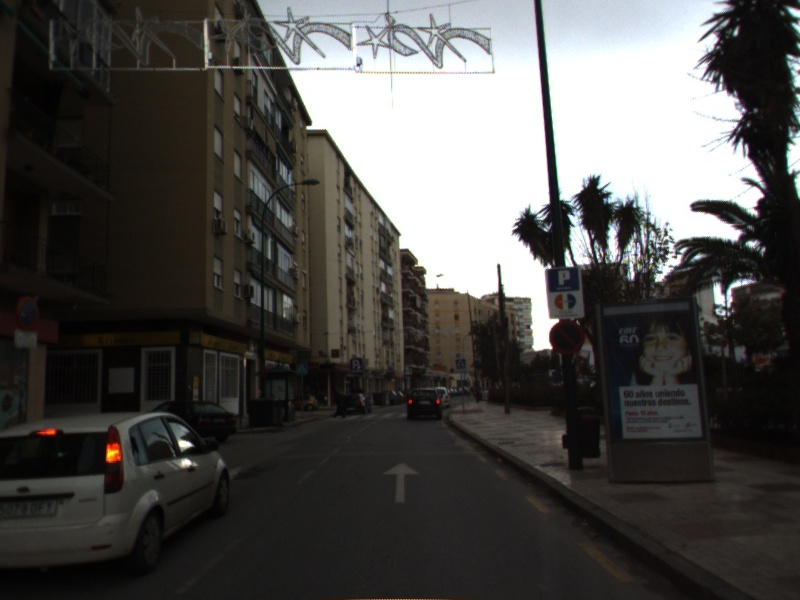STRAIGHT: (381, 460, 421, 504)
